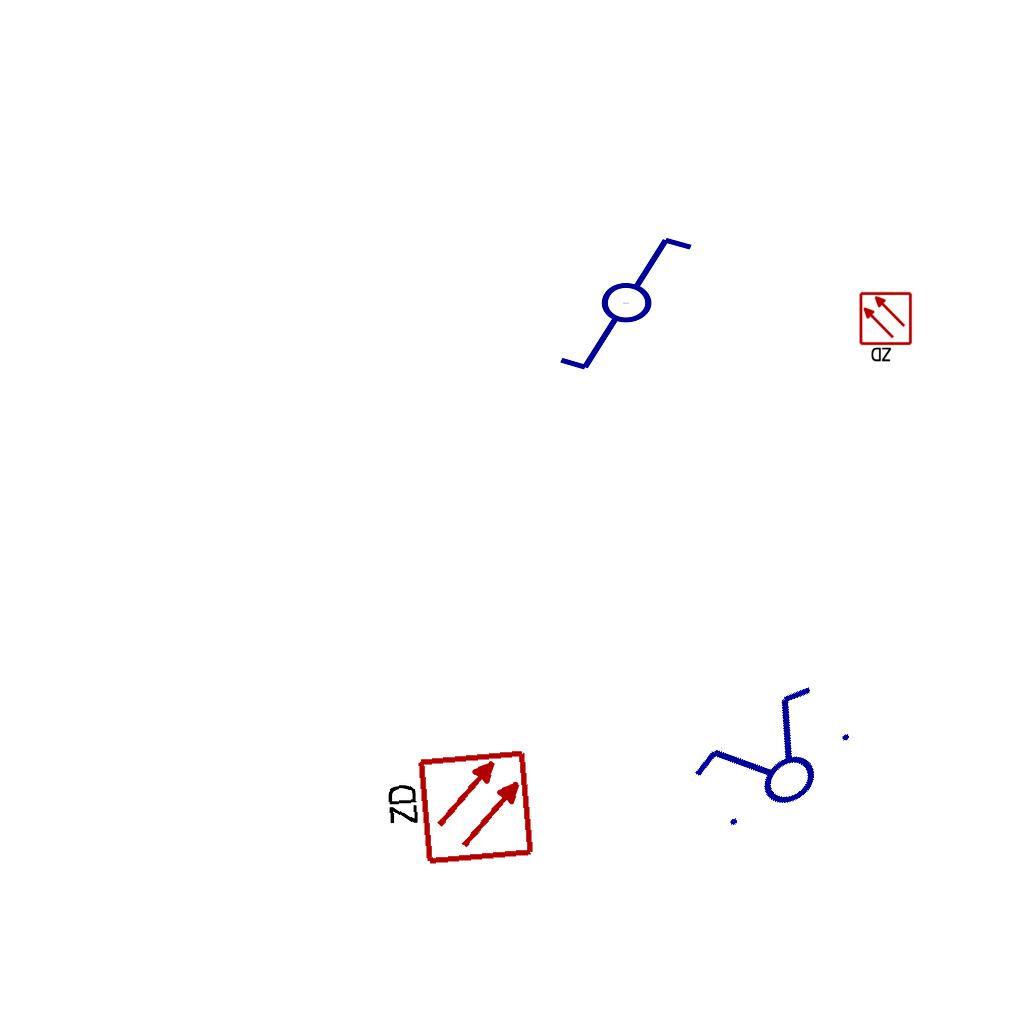Serienschalter: (677, 671, 869, 849)
Wechselschalter: (556, 233, 713, 377)
ZD_Melder_in_Zwischendecke_mit_Revisionsoeffnung_mind_40_x_40_cm: (377, 747, 537, 874), (858, 291, 915, 365)
